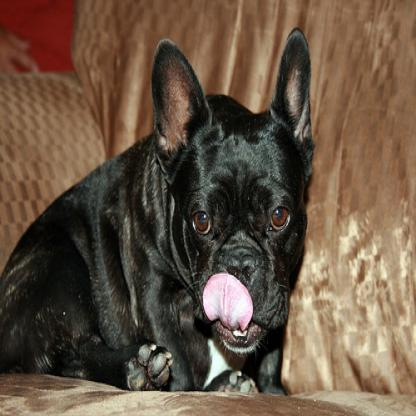dog: (0, 26, 315, 397)
sofa: (0, 1, 415, 415)
